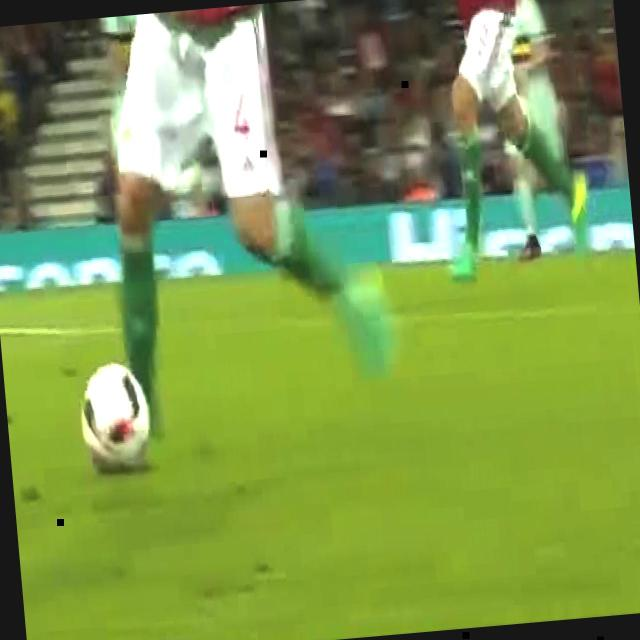ball: (76, 354, 158, 480)
player-white: (80, 0, 391, 442), (430, 0, 592, 284), (89, 12, 192, 347), (496, 0, 583, 274)
